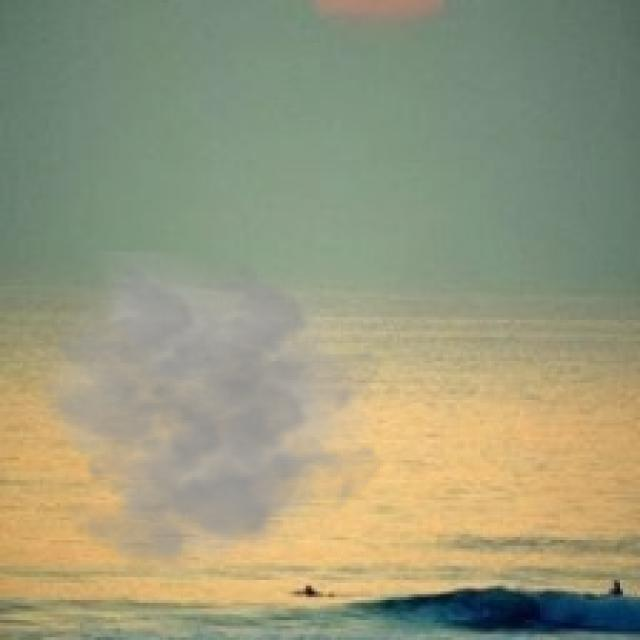Smoke: (29, 252, 388, 597)
